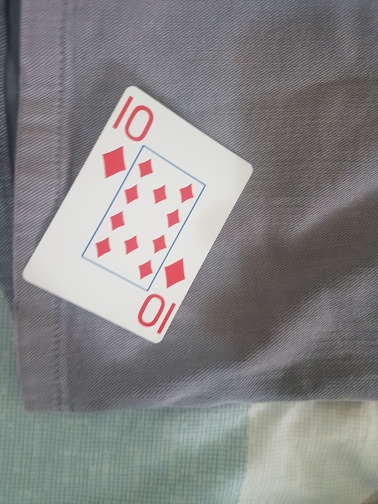ten: (22, 88, 254, 343)
